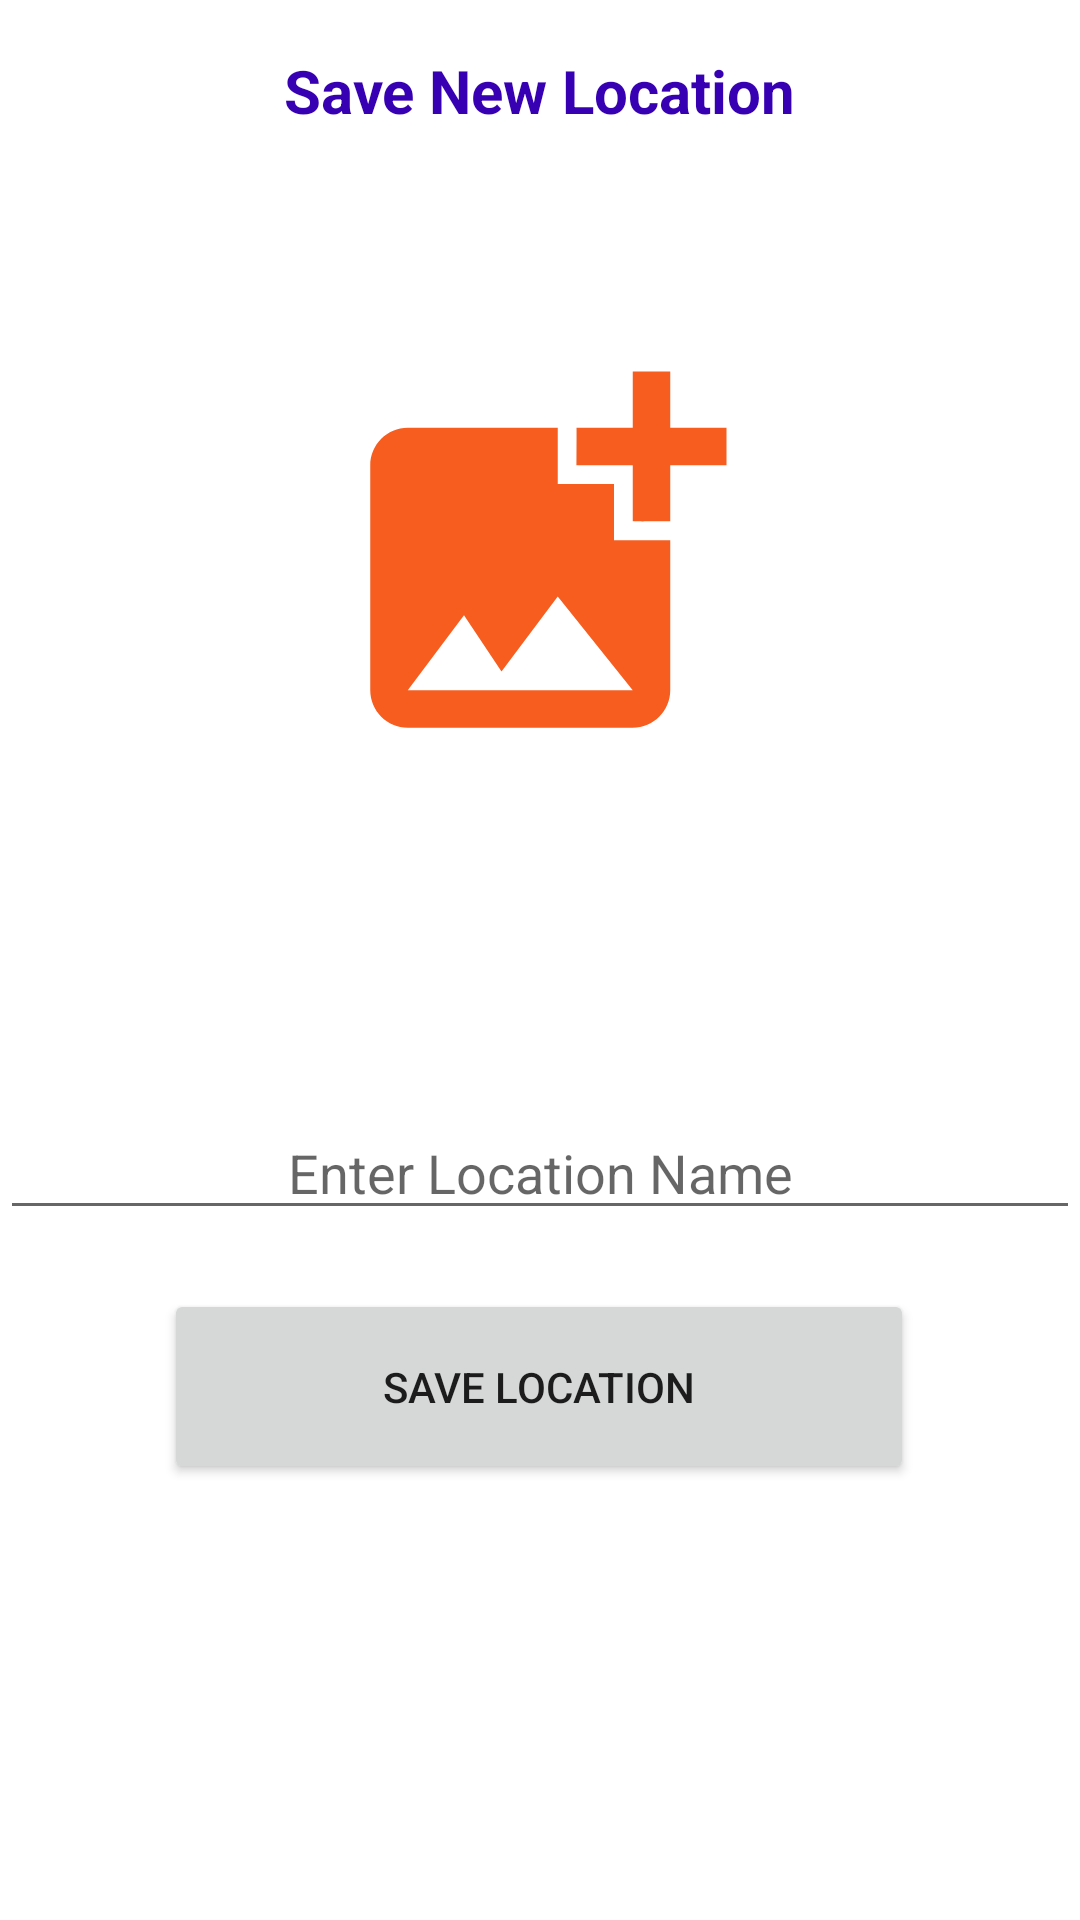

Icons on this 1080px x 1920px Android screen, each with its box as (x1, y1, x2, y2):
choose: (370, 371, 727, 728)
